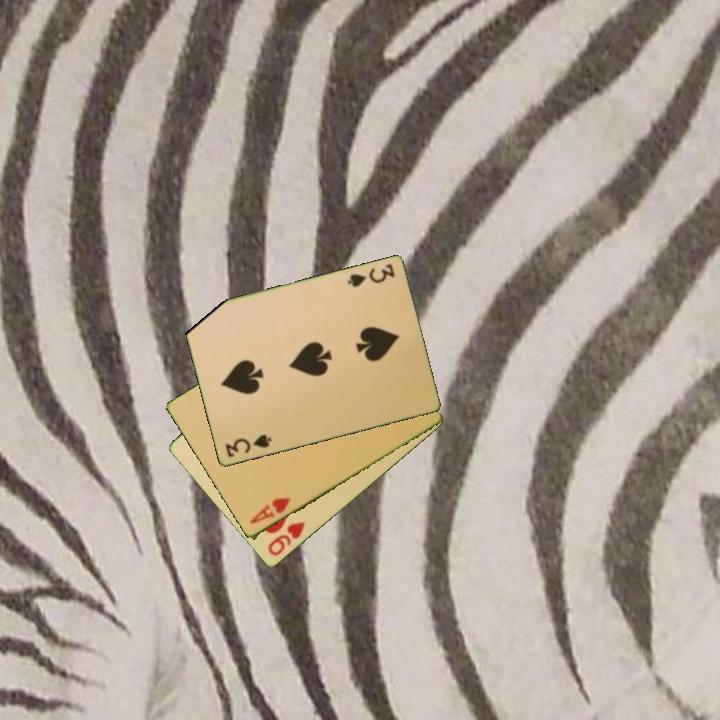3s: (221, 431, 274, 461), (344, 261, 397, 291)
9h: (264, 518, 308, 559)
Ah: (246, 494, 293, 527)
